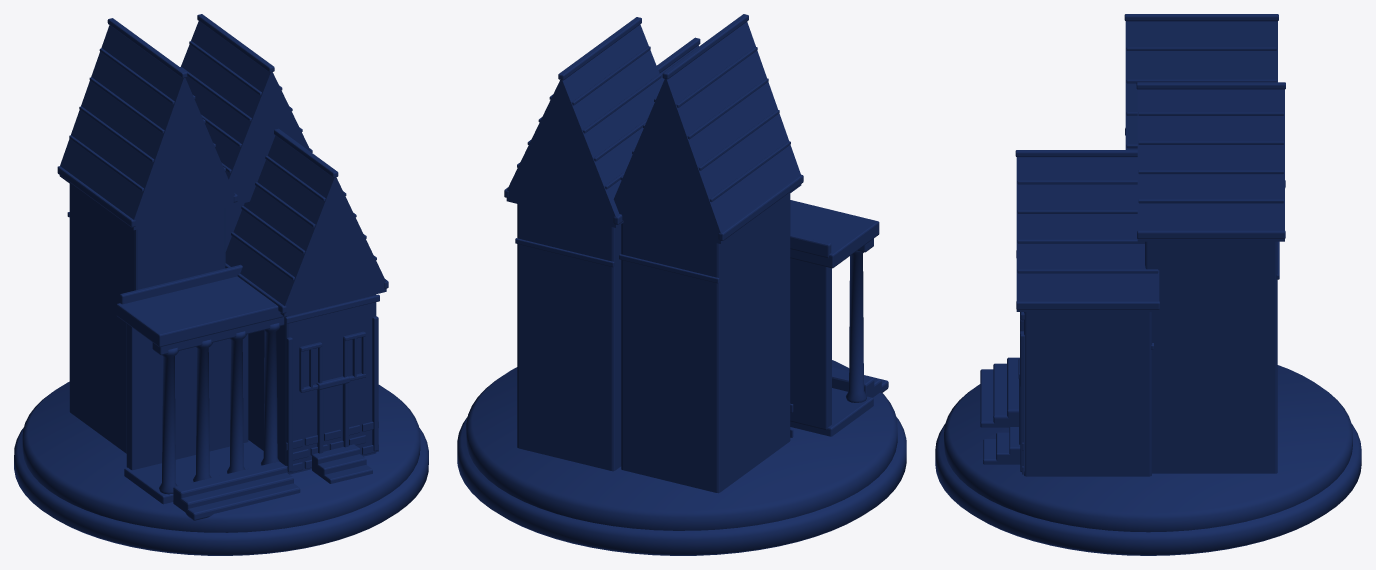
The model's file is city-blue.fbx.
The picture shows the model from 3 angles, left to right: view 1: azimuth 30°, elevation 25°; view 2: azimuth 150°, elevation 25°; view 3: azimuth 270°, elevation 25°; orthographic projection. The views are drawn at different scales.
Visible parts, largest first — view 1: City_Moulded_Sculpt; view 2: City_Moulded_Sculpt; view 3: City_Moulded_Sculpt.
Part boxes in pixels (<box>): City_Moulded_Sculpt: <box>14,14,428,555</box>; City_Moulded_Sculpt: <box>457,14,906,555</box>; City_Moulded_Sculpt: <box>935,14,1361,555</box>.
Size of the model in its own units: 0.018 by 0.02 by 0.018.
